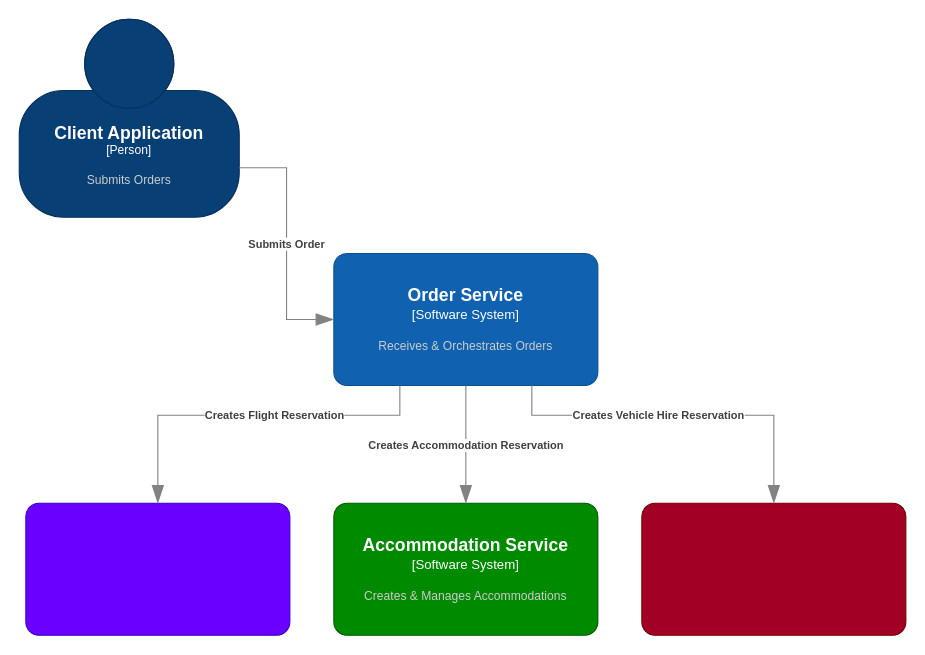
This 925x655 diagram has some shape labels left out. Each missing label, with the centre of its shape:
Flight Service [Software System] Creates & Manages Flights: the point at 157,568
Vehicle Hire Service [Software System] Creates & Manages Vehicle Hires: the point at 773,568
